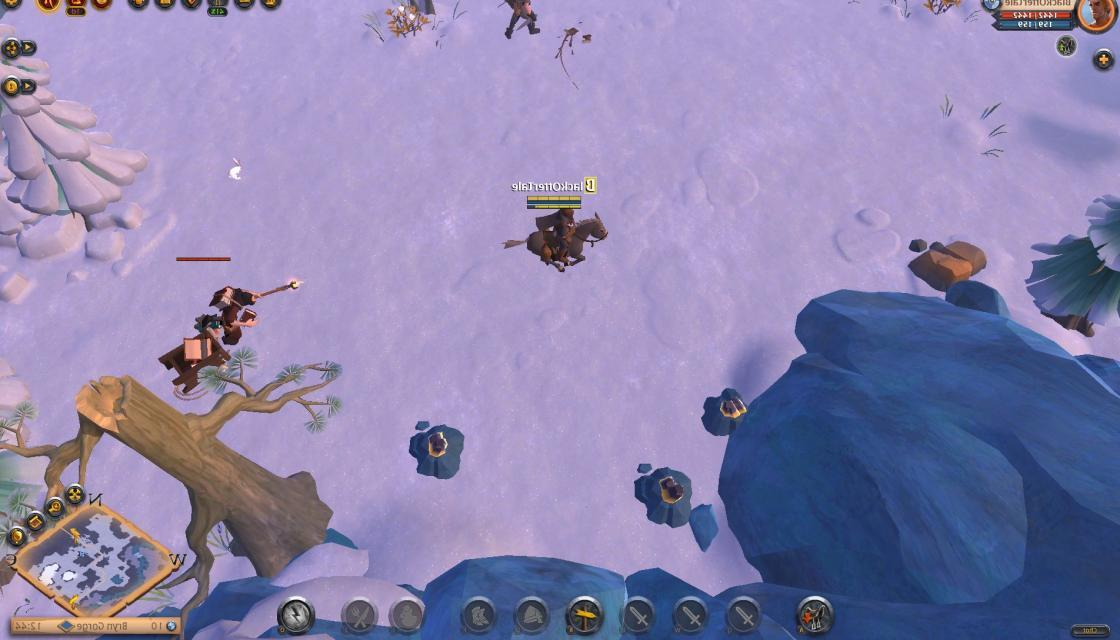copperore: (629, 468, 702, 524), (405, 422, 472, 477), (699, 385, 754, 438)
limestone: (910, 237, 994, 293)
